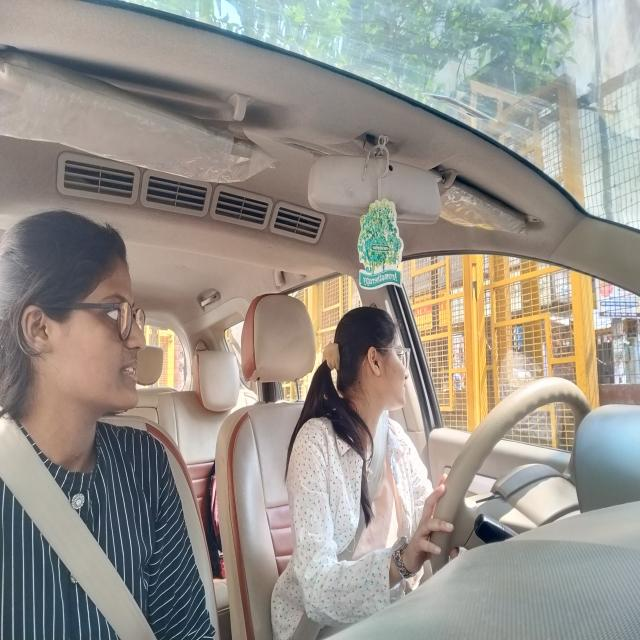LeftRight: (318, 292, 424, 456)
person: (0, 180, 157, 468)
